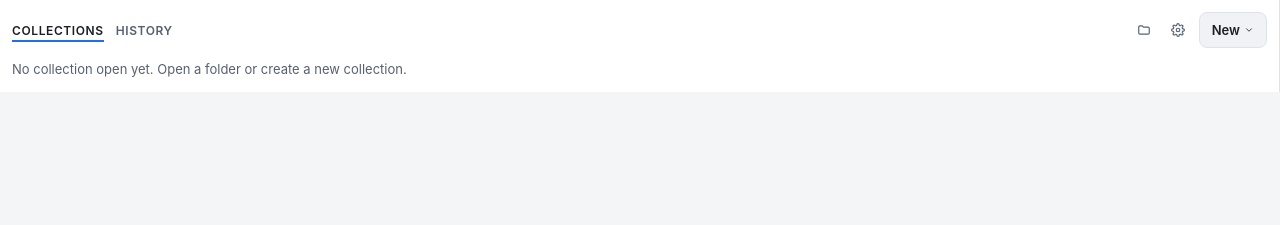
Test: HistoryList › switches the sidebar to the history, filters and opens entries
Click the tab "History".
click(144, 30)  # box [116,18,173,42]
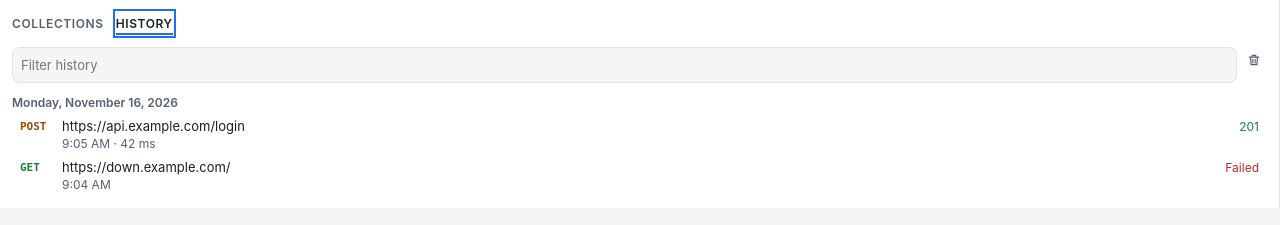
Expected: the text "201" is shown, [1239,118,1259,134]
Expected: the text "Failed" is shown, [1225,160,1259,174]
Type "down" into the search field labelled "Filter history".
click(624, 65); type("down")  # box [12,47,1237,83]
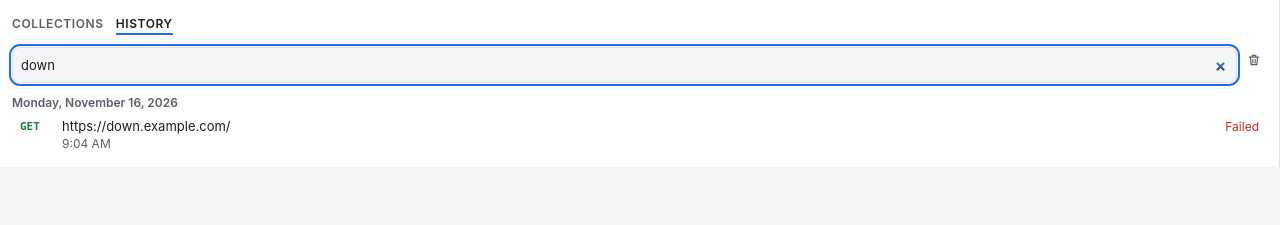
Expected: the button "https://api.example.com/login" is gone
Replace the text in the search field named "Filter history" with "nothing" at (624, 65), box [12,47,1237,83]
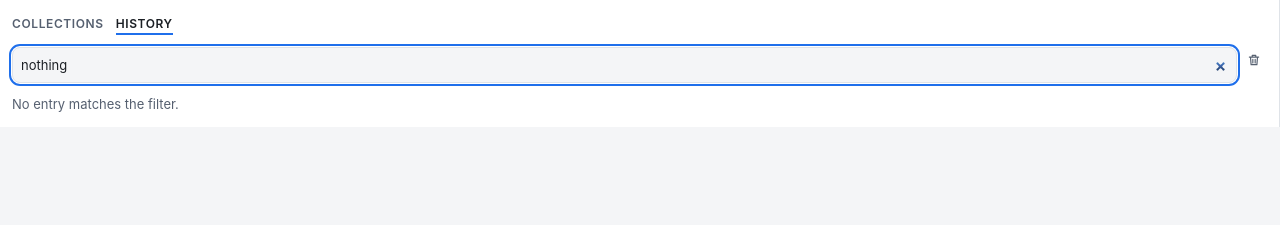
Expected: the text "No entry matches the filter." is shown, [12,96,179,112]
Clear the search field named "Filter history" at (624, 65), box [12,47,1237,83]
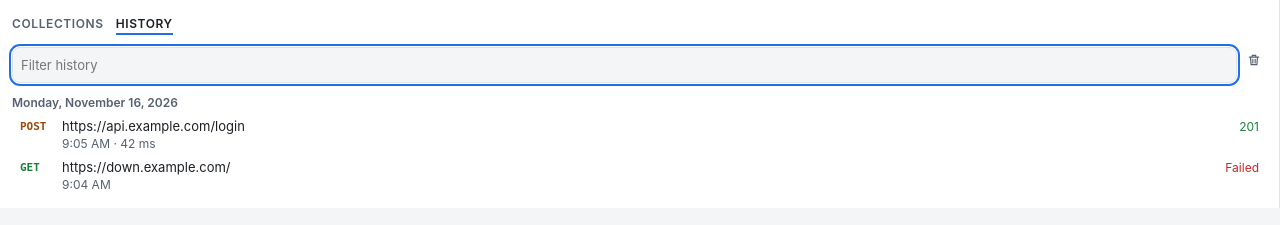
Click the button with aria-label "Open POST https://api.example.com/login".
click(153, 126)  # box [12,114,1267,155]
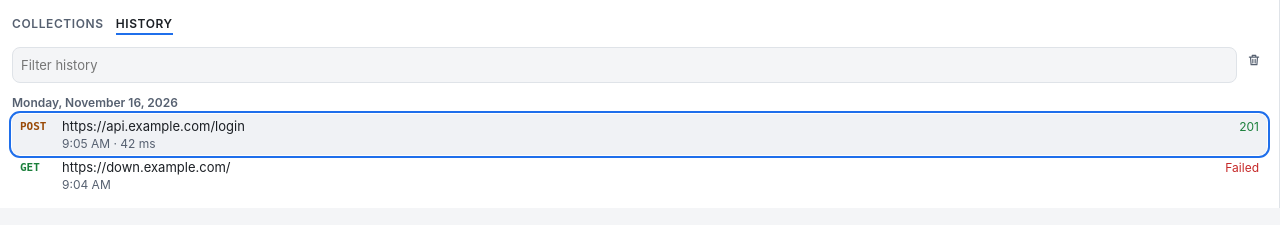
Click the tab "Collections".
click(58, 24)  # box [12,12,104,35]
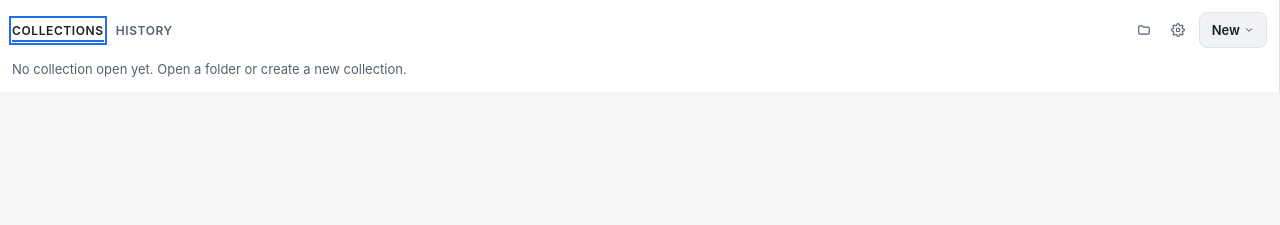
Expected: the button named "Open collection …" is shown, [1131,17,1157,43]
